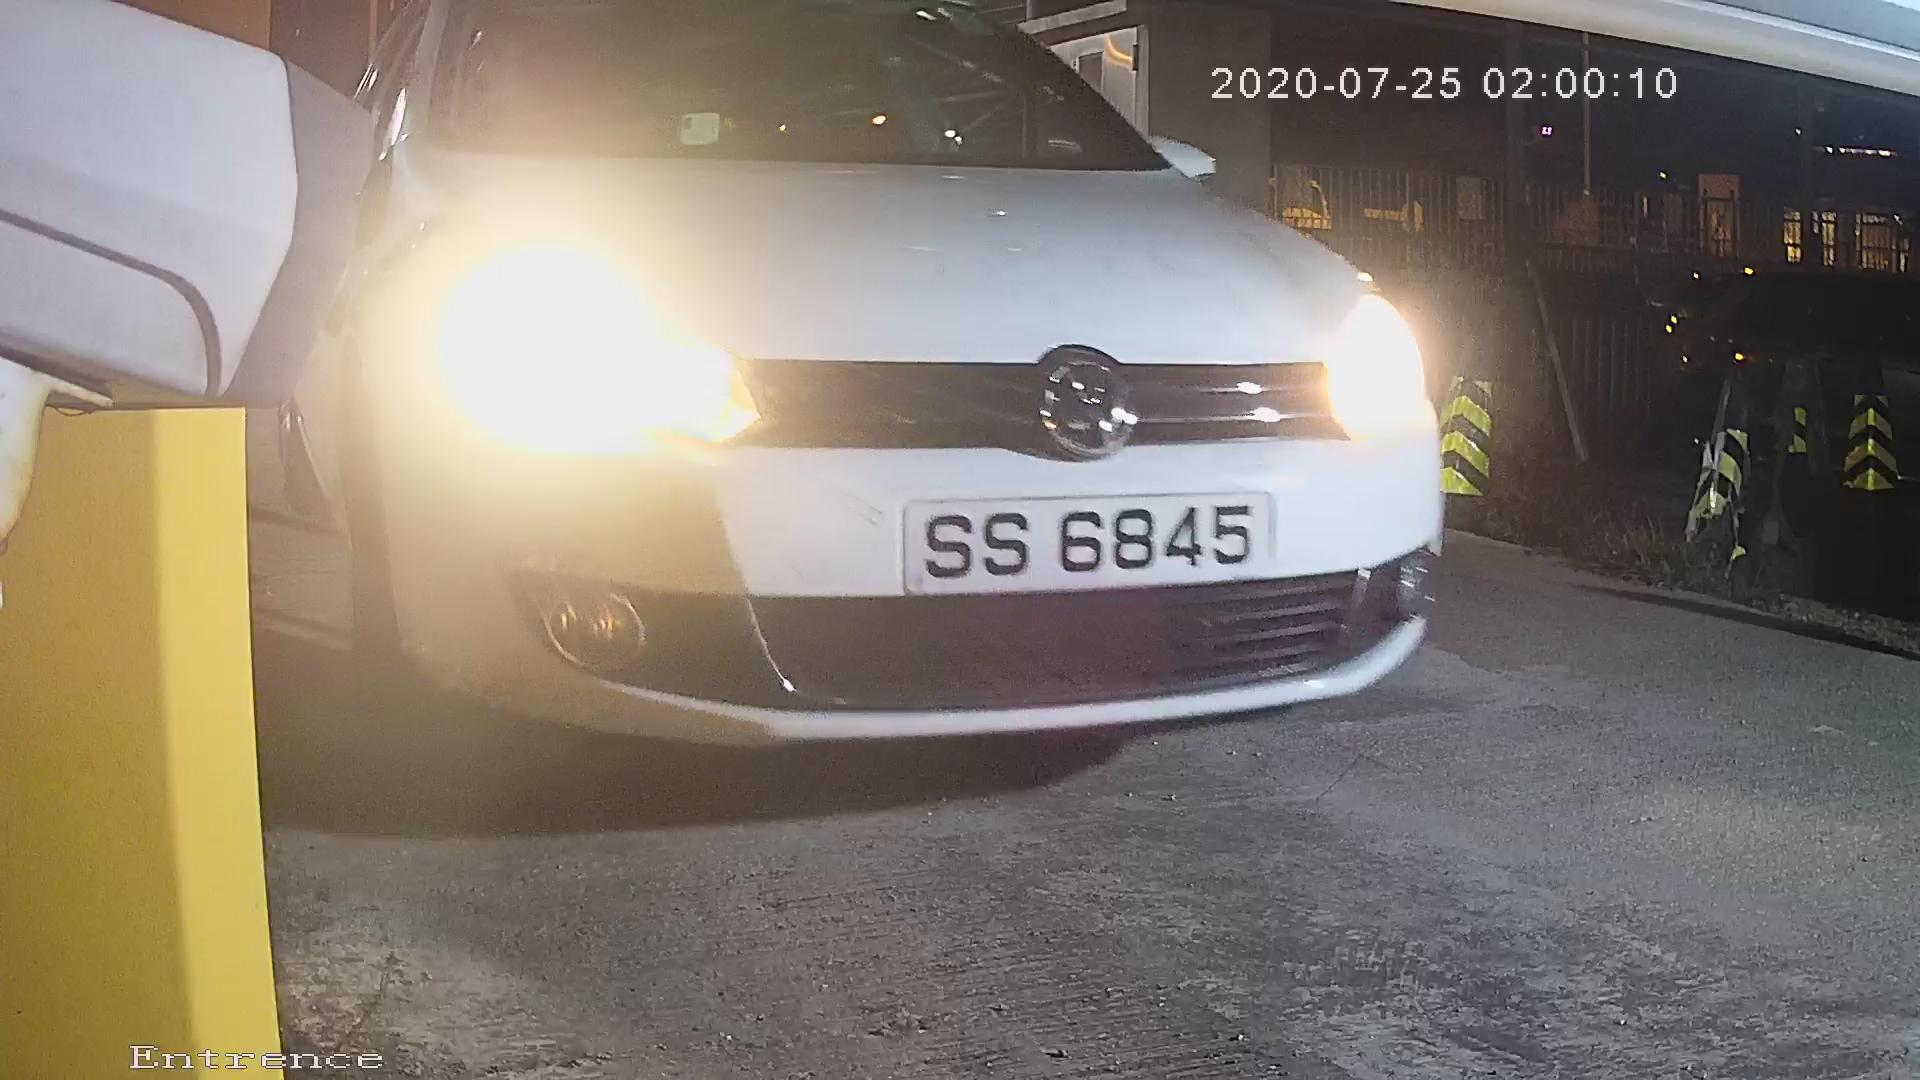Car: (103, 1, 1595, 839)
License Plate: (858, 487, 1295, 603)
